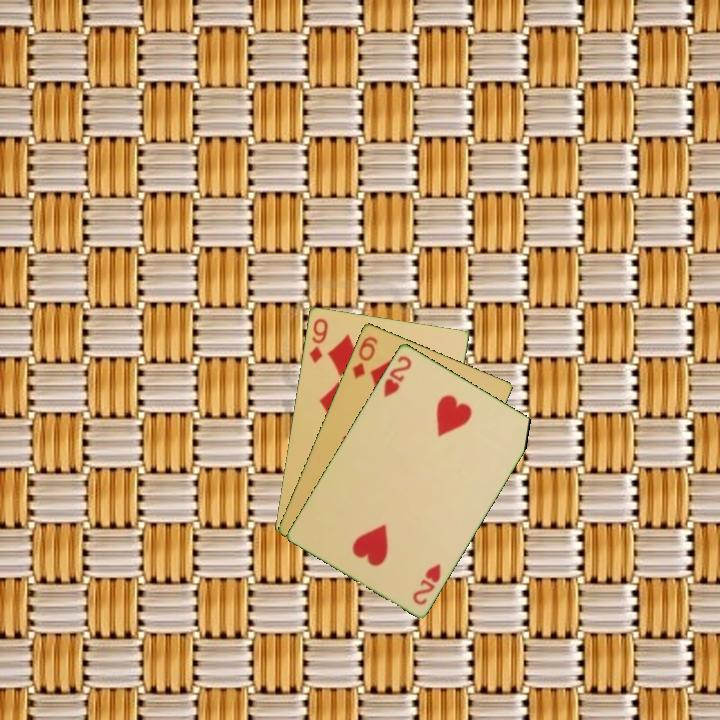2h: (409, 559, 444, 608), (380, 352, 414, 400)
6d: (348, 332, 380, 382)
9d: (306, 314, 331, 365)
